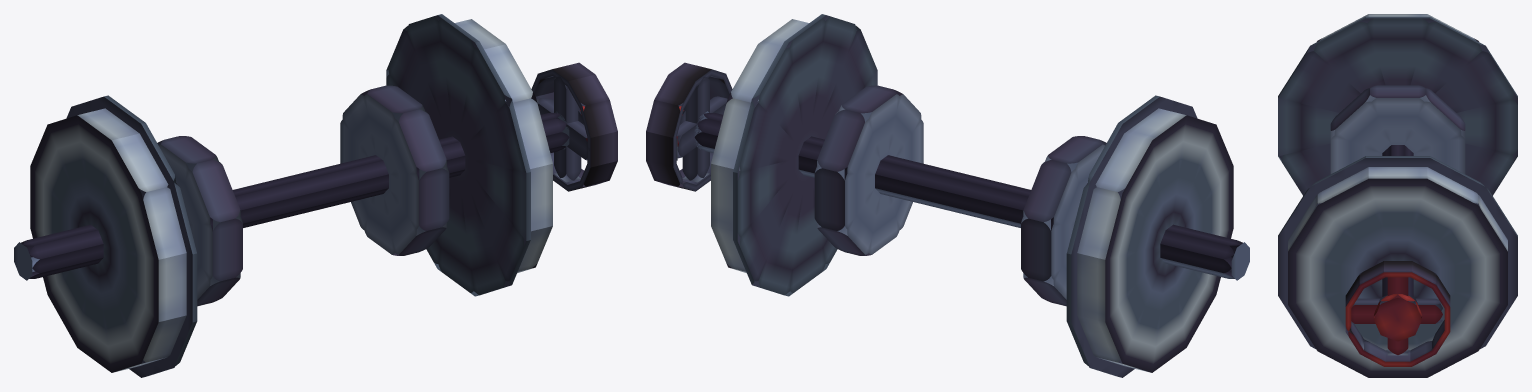
Rendered from pk209p_wheel.obj.
3 renders of one model, left to right at view 1: azimuth 30°, elevation 25°; view 2: azimuth 150°, elevation 25°; view 3: azimuth 270°, elevation 25°, orthographic. The views are drawn at different scales.
Parts seen in each view (by area): view 1: 轮对; view 2: 轮对; view 3: 轮对.
Part boxes in pixels (bbox=[...]): 轮对: bbox=[14, 14, 617, 377]; 轮对: bbox=[646, 14, 1249, 377]; 轮对: bbox=[1278, 14, 1517, 377].
Bounding box in the file's own units: 2.33 × 1 × 1.
